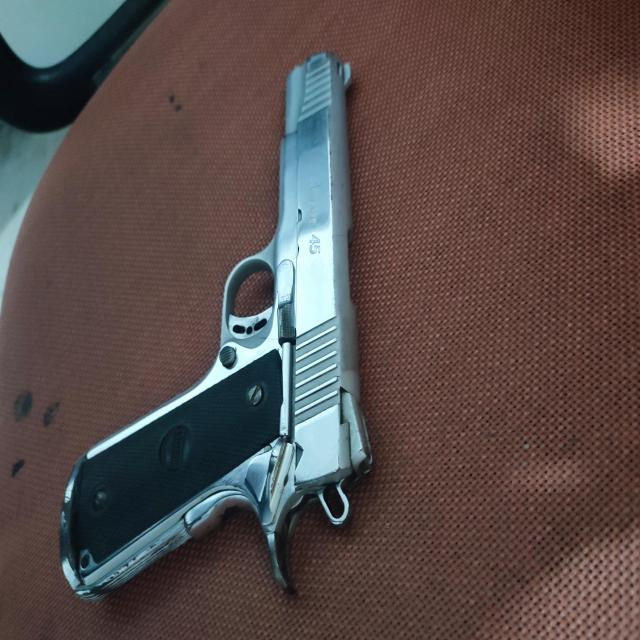pistol: (61, 52, 366, 600)
